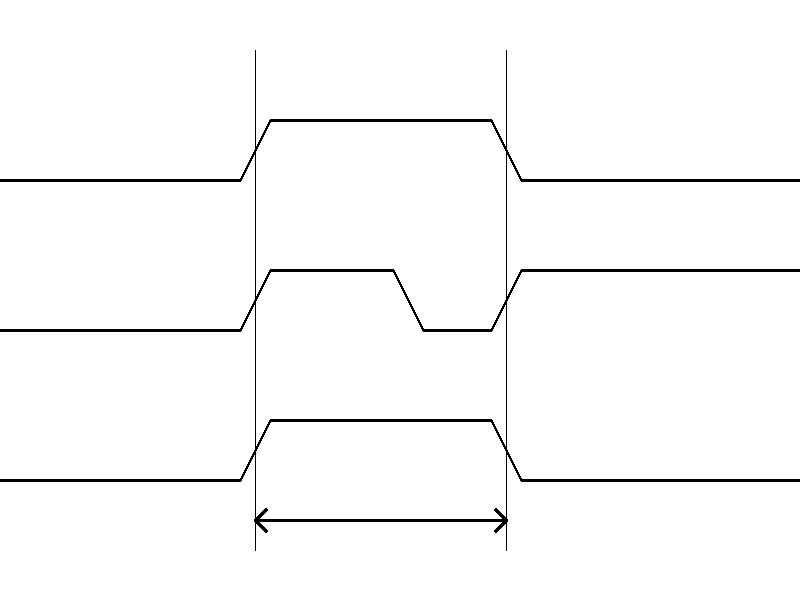double_arrow: (255, 505, 506, 535)
